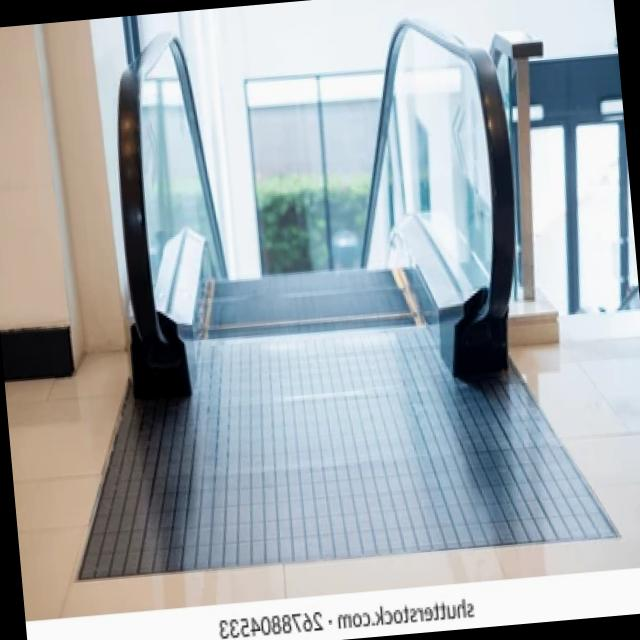escalator: (61, 3, 633, 597)
